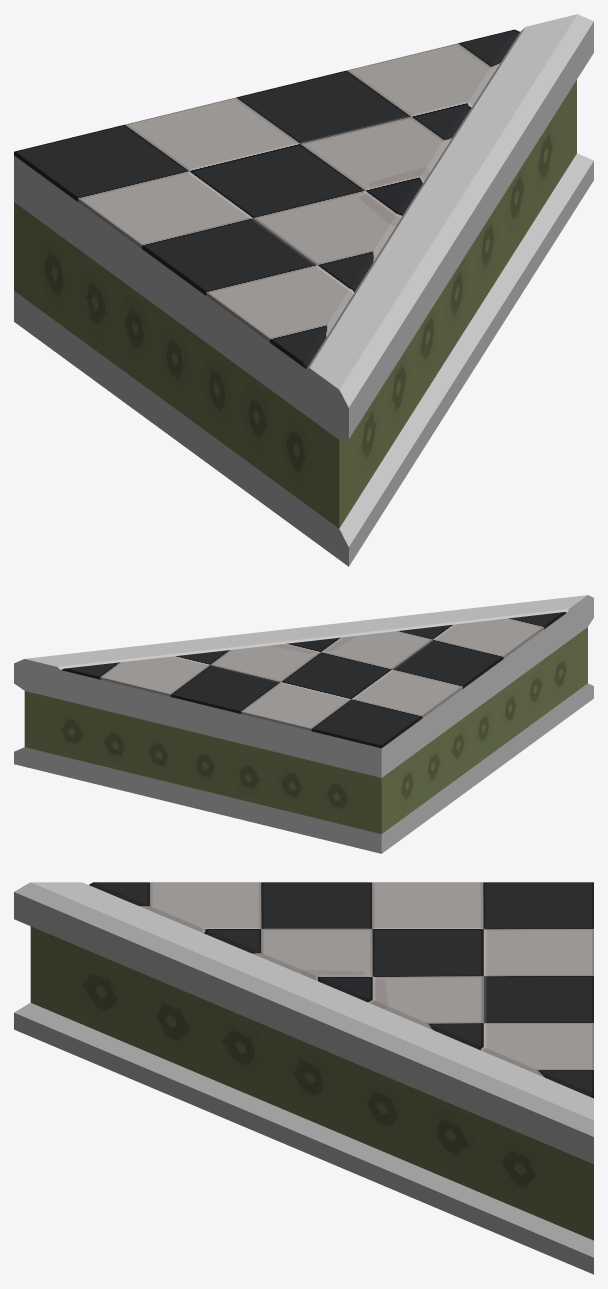
File: SM_Prop_Platform_02_Corner_L_02.fbx
3 views of the same model, one above another, from view 1: azimuth 30°, elevation 25°; view 2: azimuth 150°, elevation 25°; view 3: azimuth 270°, elevation 25° (orthographic). The views are drawn at different scales.
Visible parts, largest first — view 1: SM_Prop_Platform_02_Corner_L_02; view 2: SM_Prop_Platform_02_Corner_L_02; view 3: SM_Prop_Platform_02_Corner_L_02.
Boxes of the visible parts, x1,y1,x2,y2 form: SM_Prop_Platform_02_Corner_L_02: (14, 14, 593, 566); SM_Prop_Platform_02_Corner_L_02: (14, 595, 593, 853); SM_Prop_Platform_02_Corner_L_02: (14, 882, 593, 1274).
Bounding box in the file's own units: 178 × 50 × 178.
